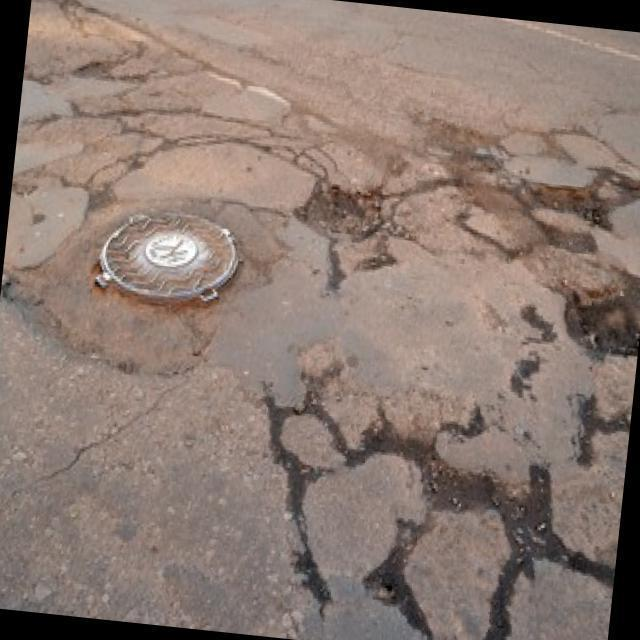pothole: (560, 264, 640, 361), (289, 172, 390, 248), (528, 180, 617, 229), (71, 52, 121, 82), (624, 173, 640, 232)
